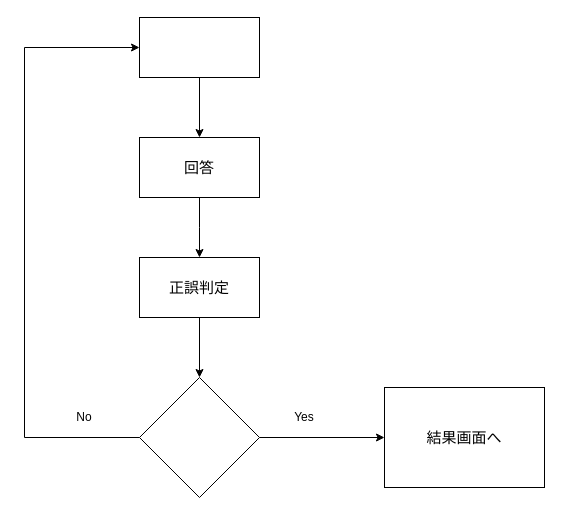
Some shapes in this 562 by 515 pixel diagram are drawn without their labels. Each missing label, with the box of its shape:
問題数が０か？: (138, 376, 260, 498)
問題文を表示: (138, 16, 260, 78)
